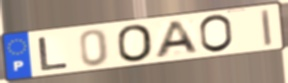0: (77, 27, 111, 68)
A: (153, 19, 202, 60)
I: (259, 8, 274, 48)
L: (37, 35, 71, 72)
O: (115, 23, 156, 63), (197, 13, 235, 54)
